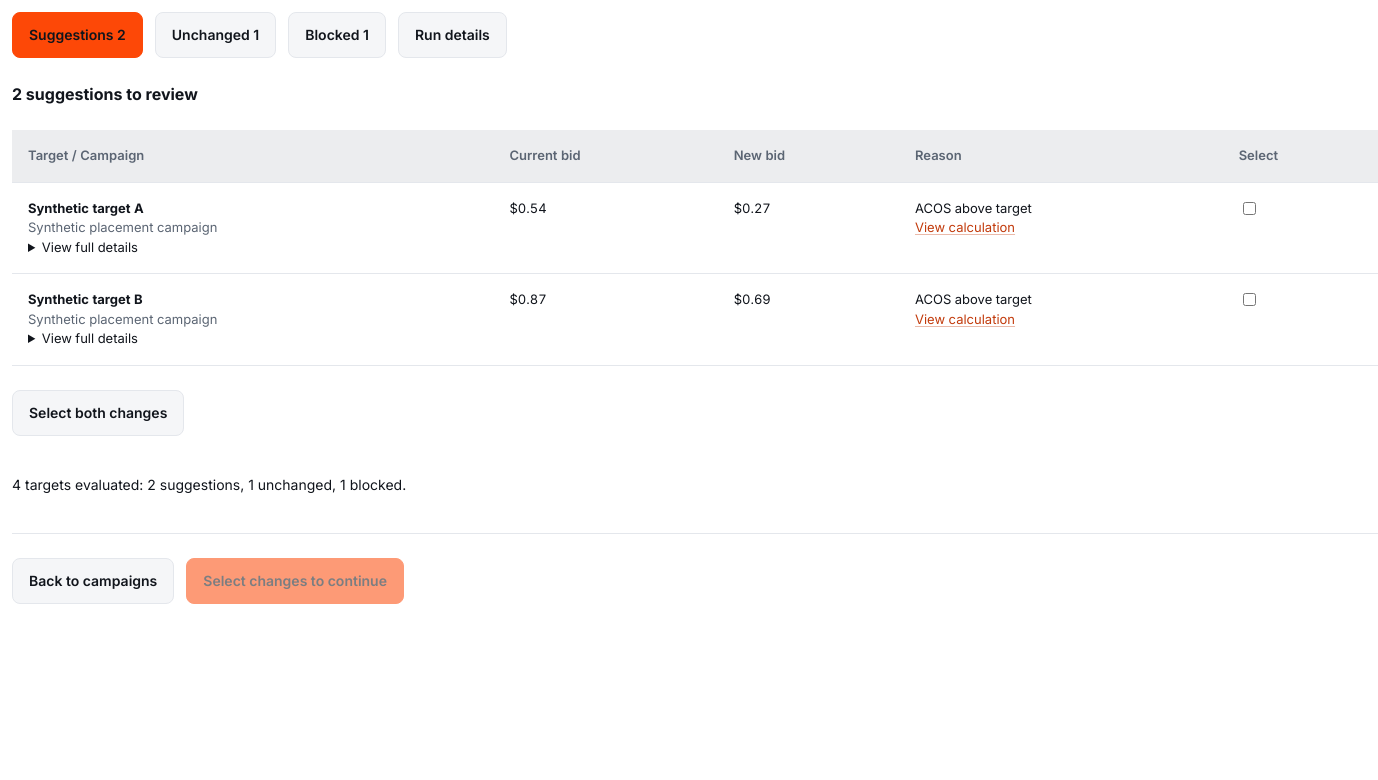
Test: review state rendering › selects both rows, clears them and preserves full recorded detail
The image size is (1378, 780).
Click the button "Select both changes" at (98, 412), box [12,390,184,436]
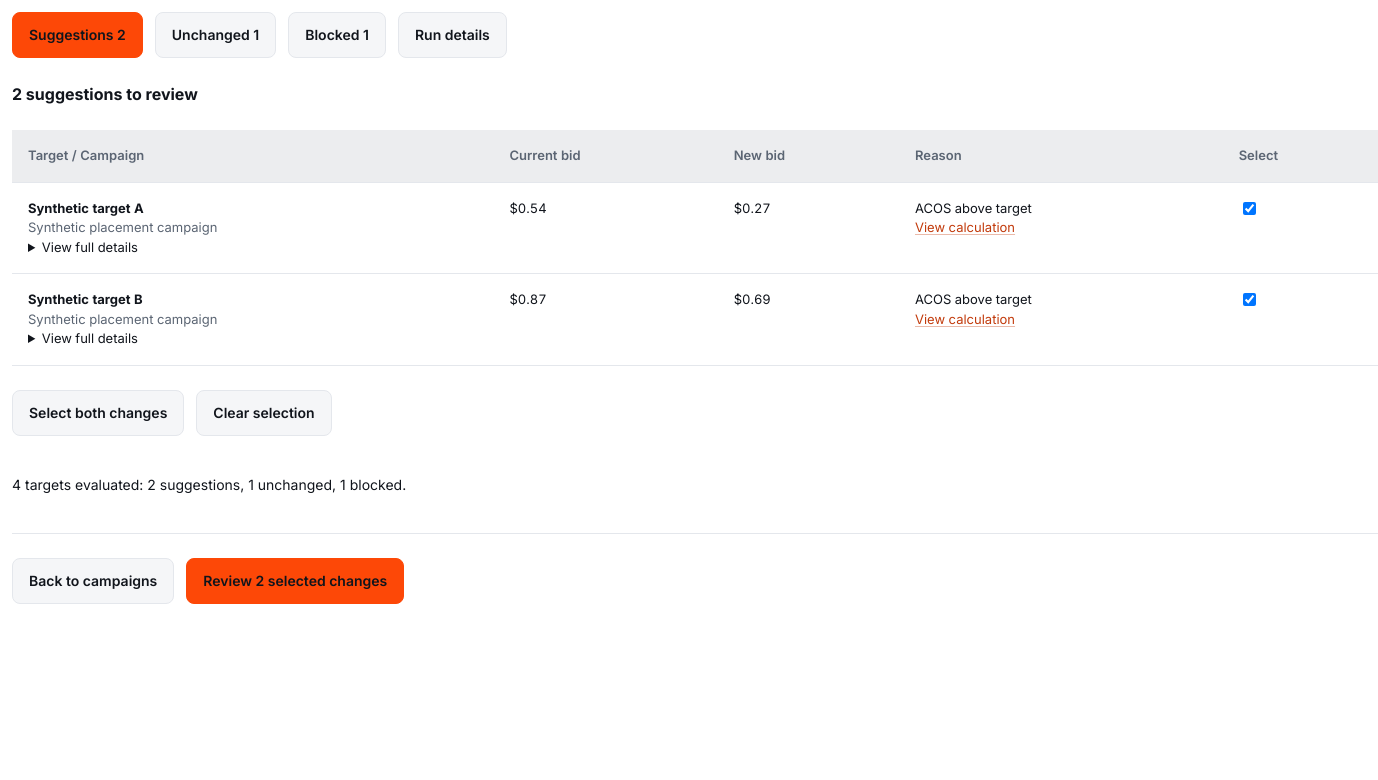
Expected: the button "Review 2 selected changes" is shown, [186,558,404,604]
Click the button "Clear selection" at (264, 412), box [196,390,332,436]
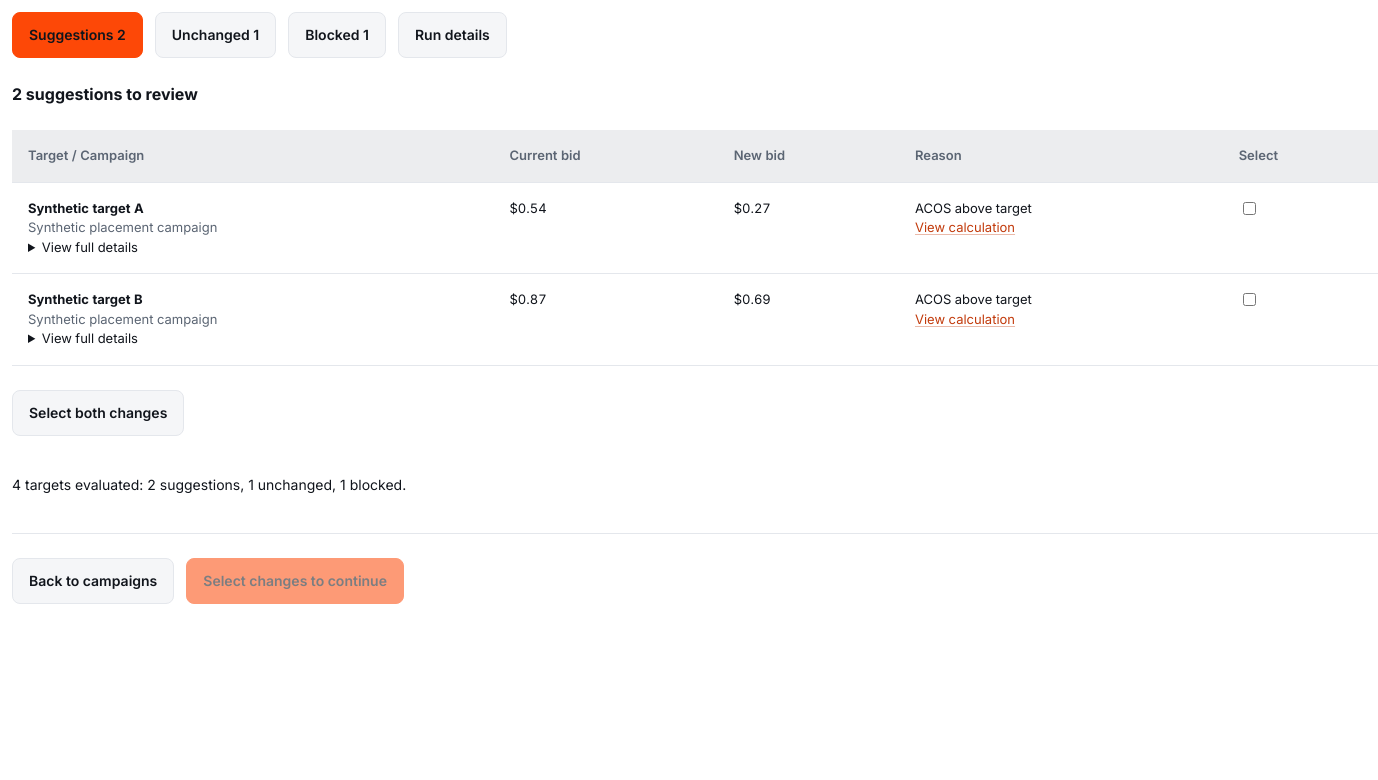
Expected: the checkbox named "Select Synthetic target A" is not checked, [1243,202,1256,214]
